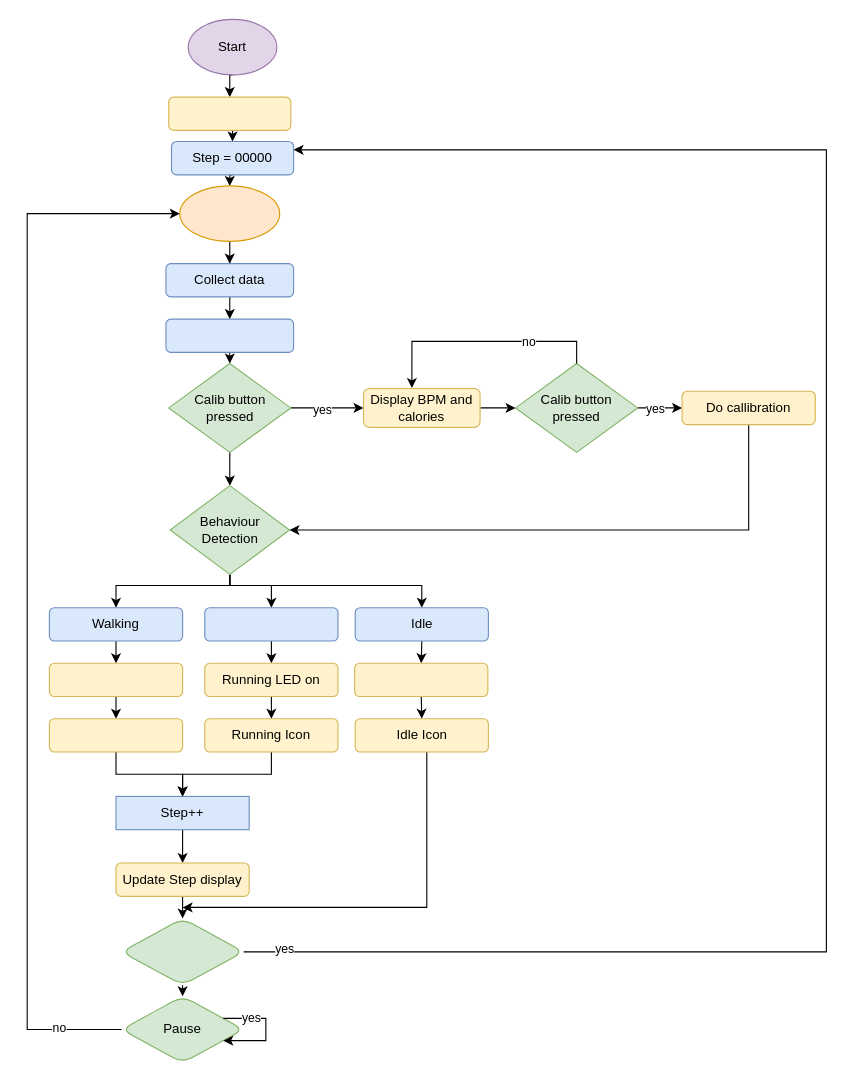
The diagram is 855 pixels wide and 1082 high, and some of its shapes have lost their labels. Here are the shapes that lost their labels. From the top down, the centre of each, then its label:
At (x=229, y=113): "PWR LED on".
At (x=229, y=213): "Loop Starts".
At (x=229, y=335): "Low pass active filter".
At (x=271, y=624): "Running".
At (x=115, y=679): "Walking LED on".
At (x=421, y=679): "Idle LED on".
At (x=115, y=735): "Walking Icon".
At (x=182, y=951): "Reset".
